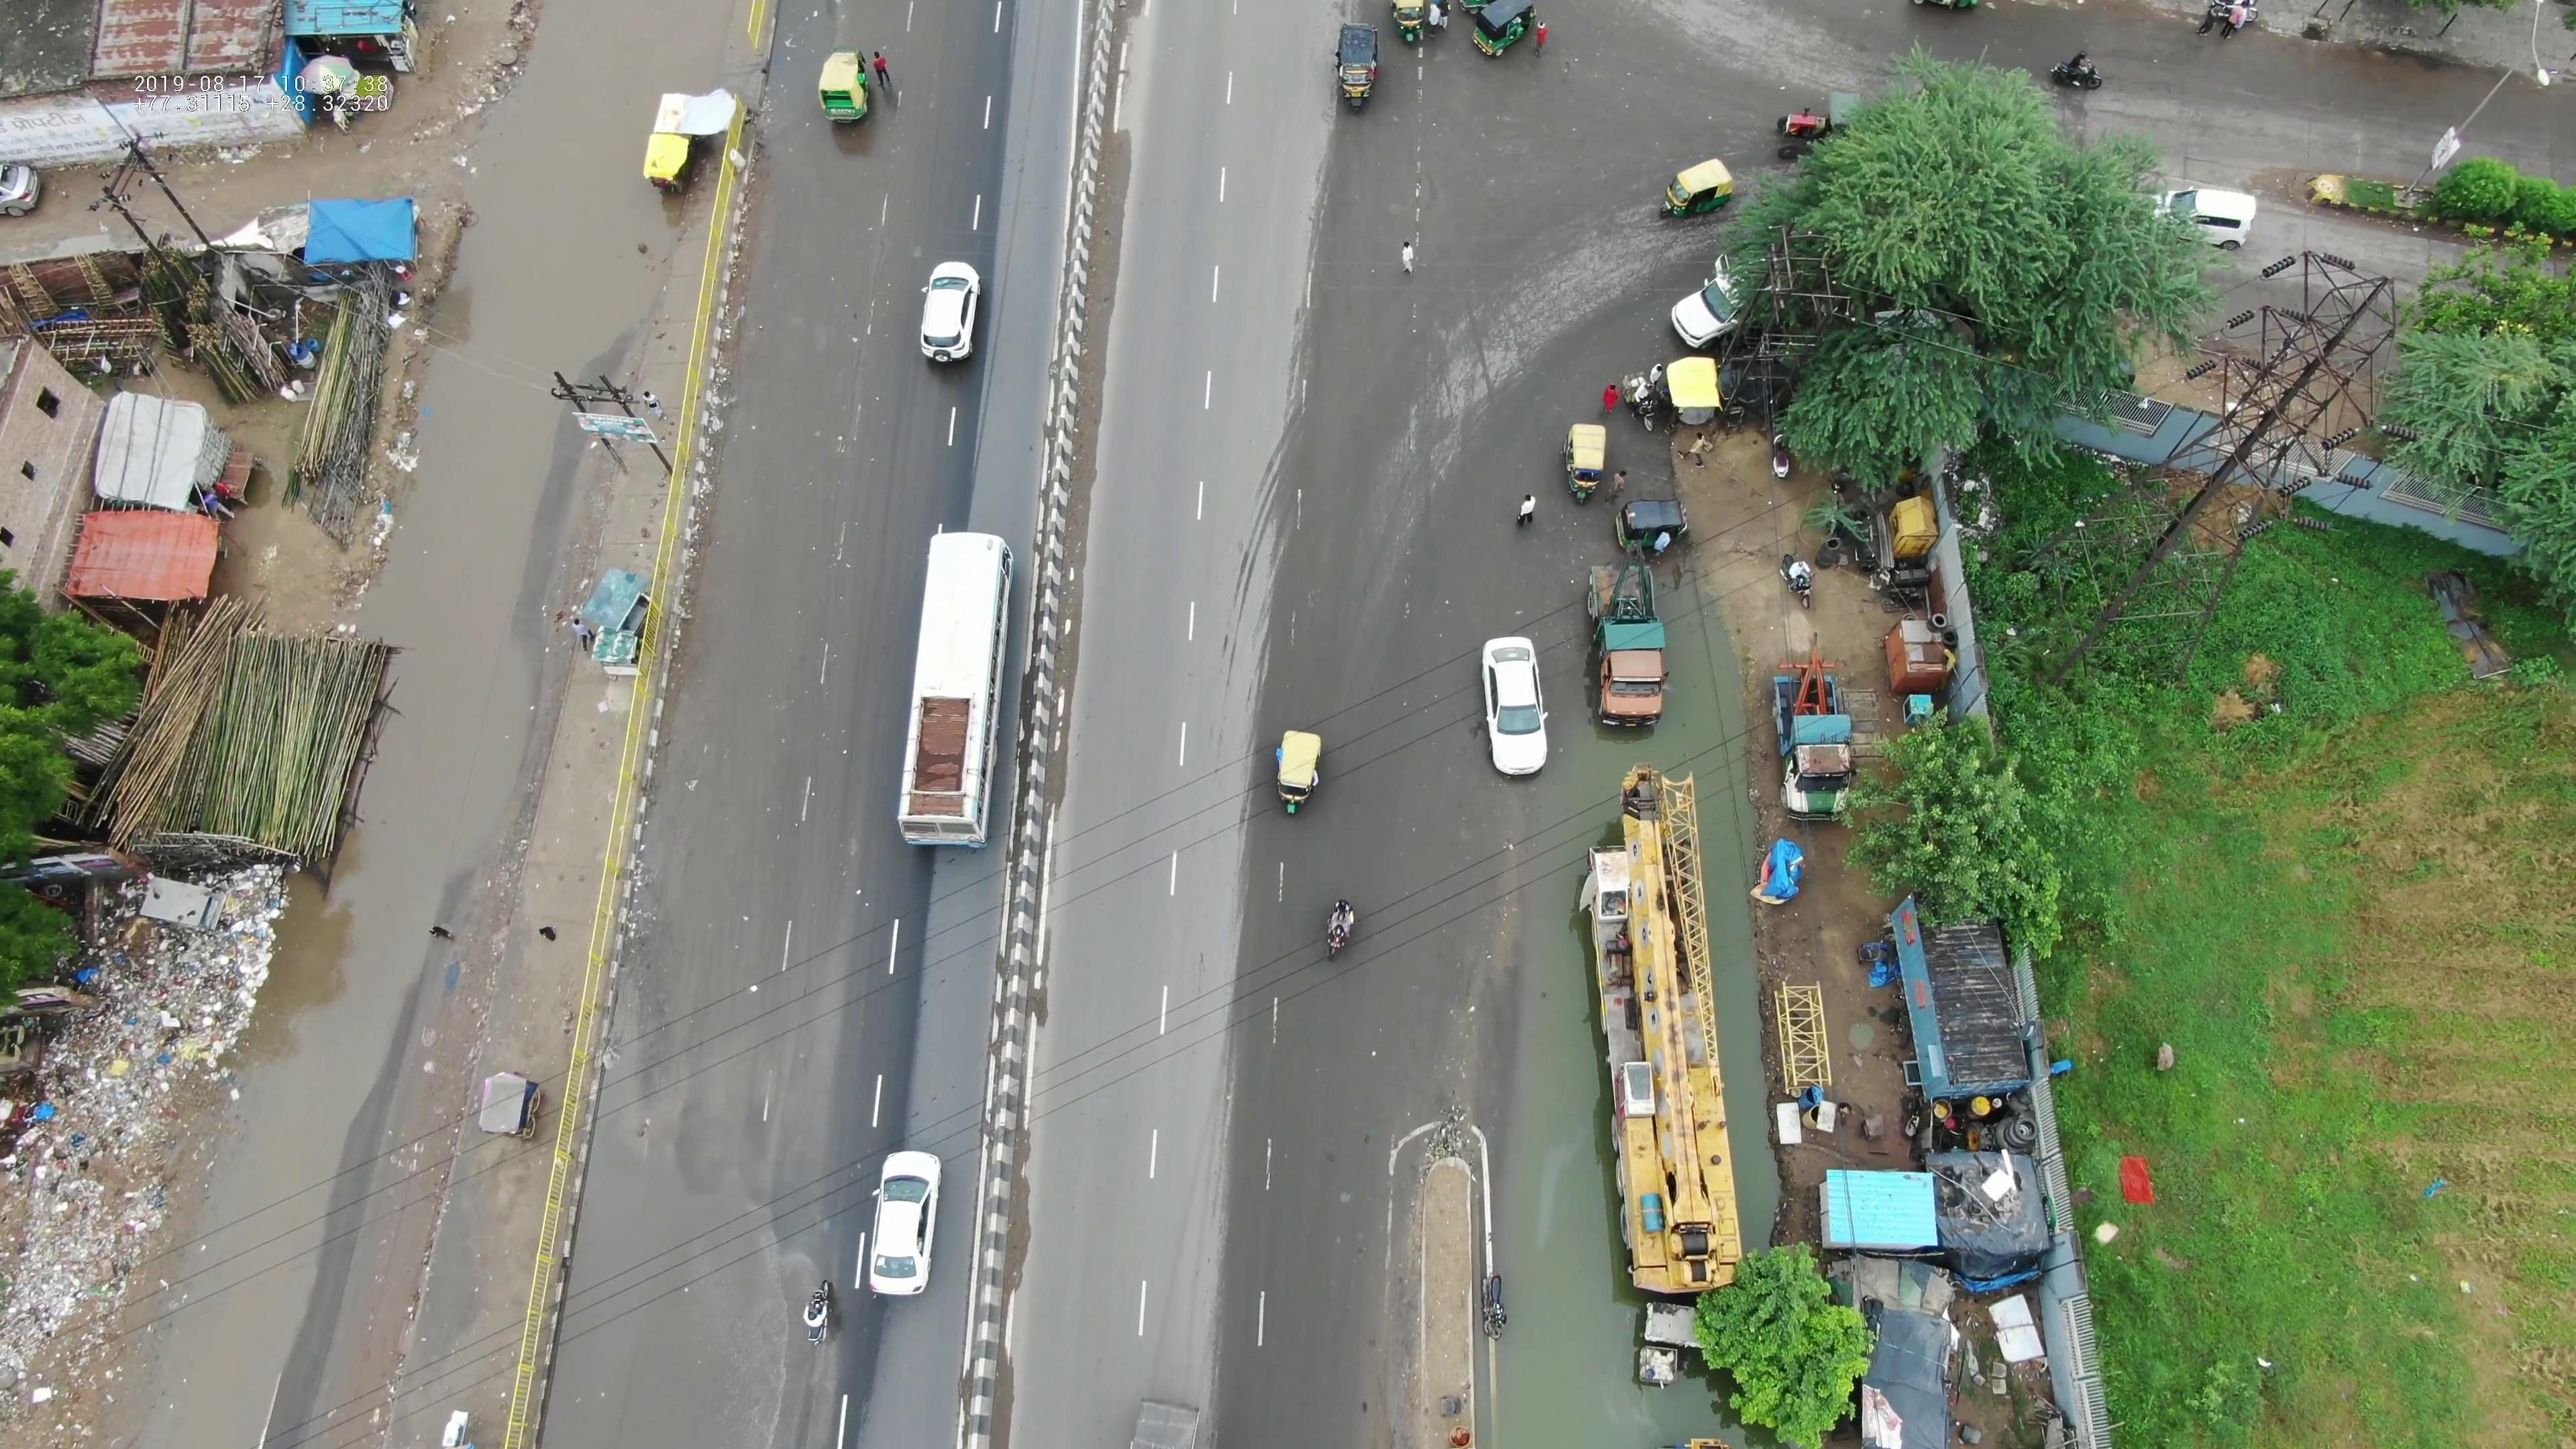Muddy_road: (632, 740, 780, 996)
Road_side_garbage: (9, 876, 258, 1343)
Waterlogging: (1493, 617, 1775, 1426), (292, 432, 577, 984), (409, 9, 725, 389), (554, 1118, 839, 1438), (150, 1070, 368, 1426)
